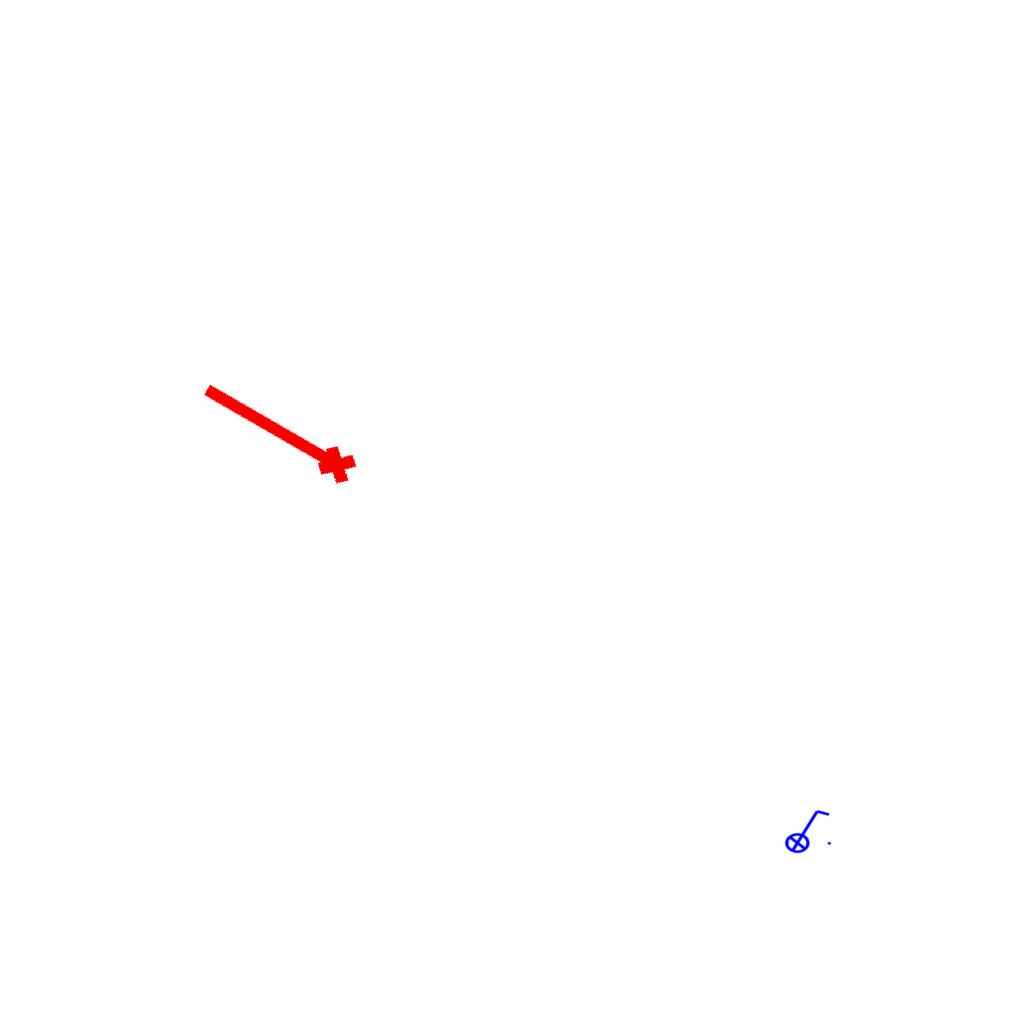ASR_Ansaugoeffnung: (189, 369, 365, 497)
Ausschalter_beleuchtet: (778, 806, 834, 854)
